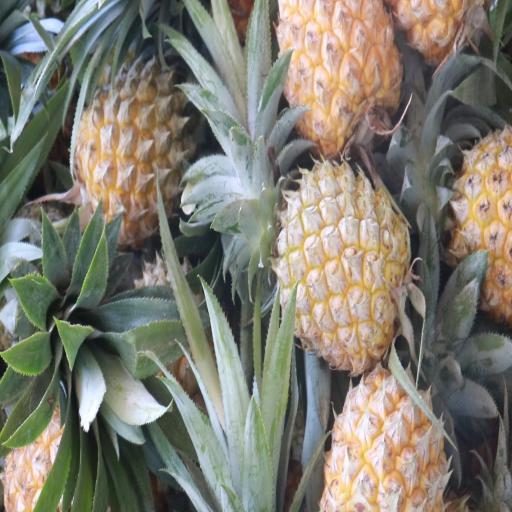------------------------------: (75, 70, 198, 242)
Pineapple - v8 v1: (280, 162, 412, 369), (322, 361, 448, 512), (279, 0, 402, 154)
